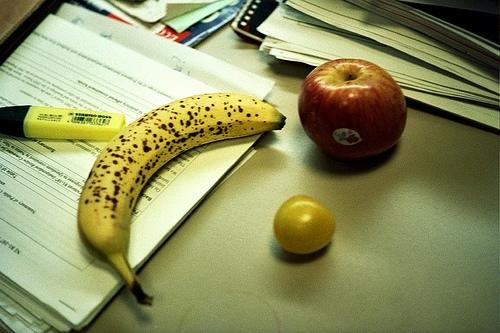apple: (298, 58, 408, 157)
banana: (76, 92, 286, 306)
